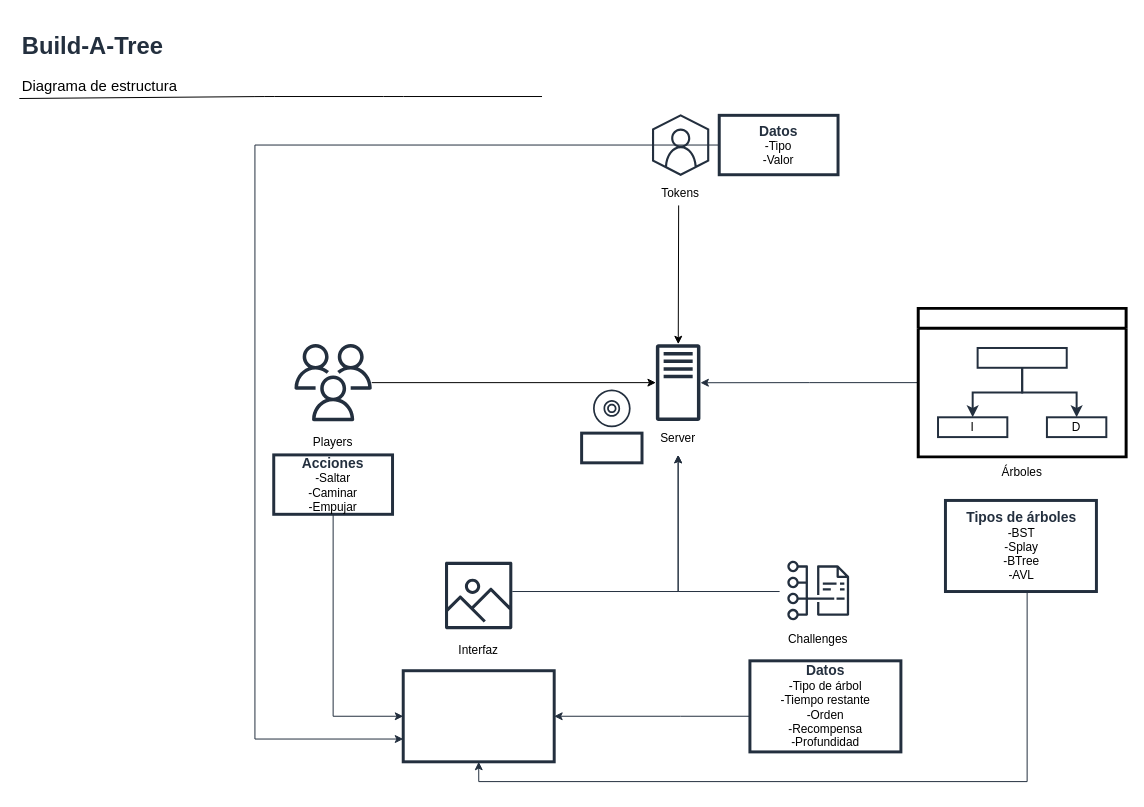
The diagram is 1144 pixels wide and 807 high, and some of its shapes have lost their labels. The shapes that lost their labels are listed below. From the top down, each one's box as (x1, y1, x2, y2) in pixels, then its label:
(976, 346, 1067, 368): Nodo
(580, 431, 643, 464): Socket
(401, 669, 555, 763): Datos -Diseño jugadores -Diseño plataformas -Escenario -Árboles -Tokens
